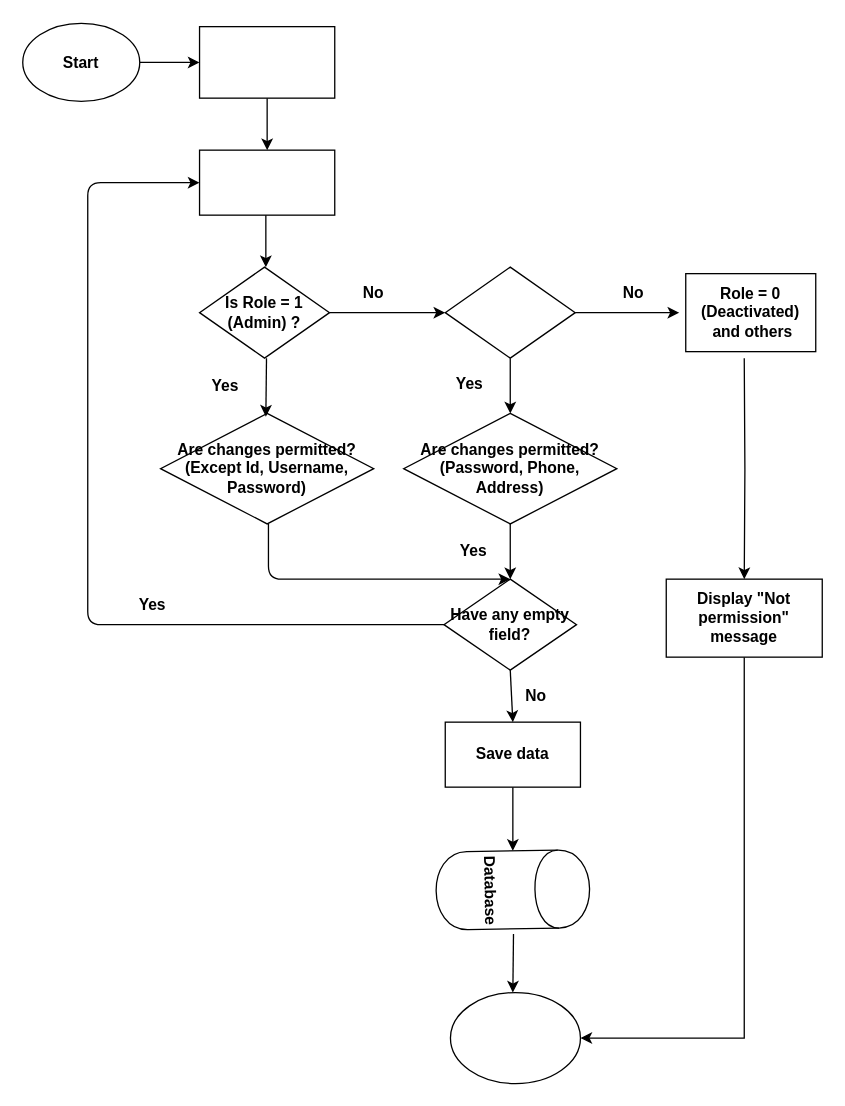
This 845x1106 diagram has some shape labels left out. Here are the shapes that lost their labels. From the top down, the centre of each, then its label:
pixel 266 61: Select object to update or deactivate
pixel 266 182: Edit data
pixel 509 312: Is Role = 2 (Employee) ?
pixel 514 1037: End
